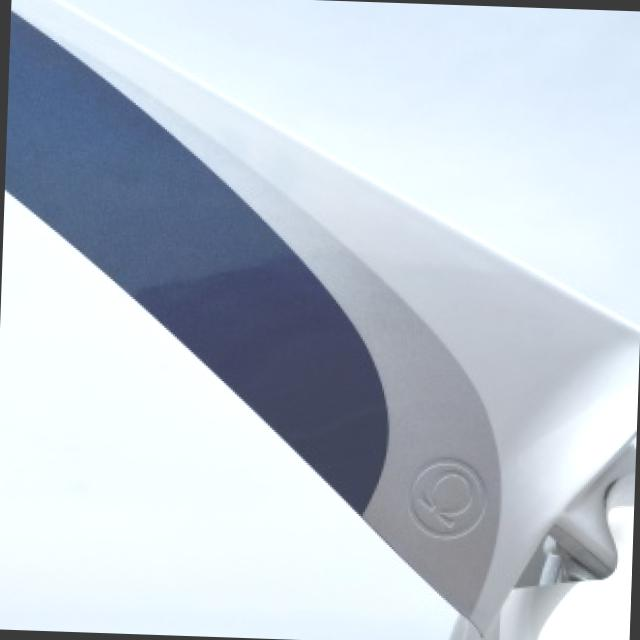healthy: (0, 194, 451, 640)
